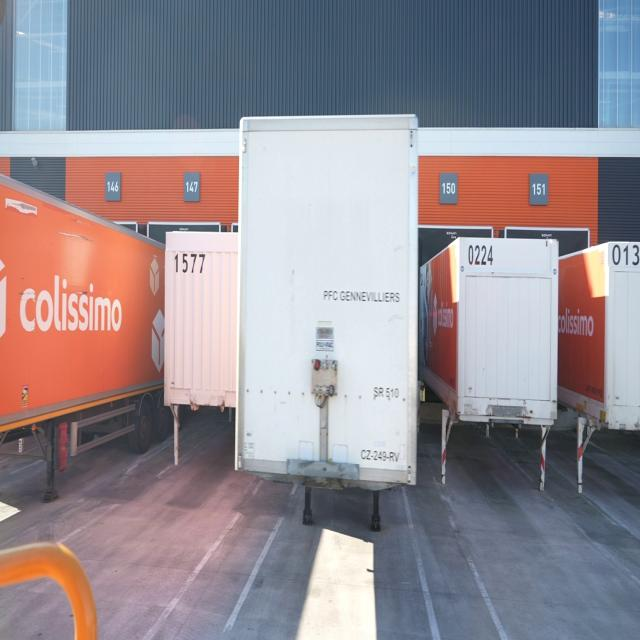Code: (172, 248, 208, 277), (466, 240, 498, 270)
